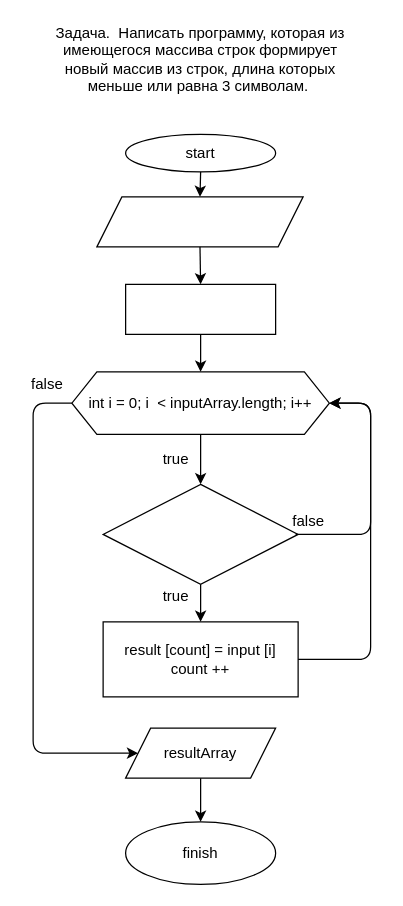
This 403x906 diagram has some shape labels left out. The shapes that lost their labels are listed below. From the top down, each one's centre as x and y in pixels, then its label:
(199,221): inputArray = [" ", " ", " "]
(200,308): resultArray [] int count = 0
(200,533): input[i].Length <= 3
